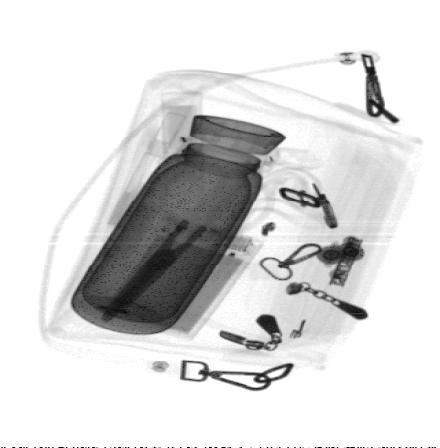Powerbank: (97, 208, 269, 345)
Scissors: (98, 152, 275, 327)
